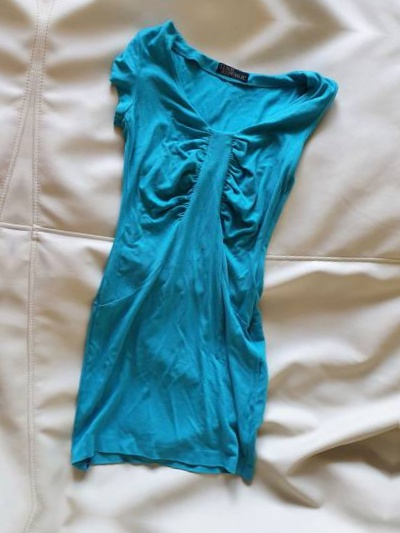Dress: (7, 5, 373, 512), (0, 0, 21, 465), (73, 0, 400, 20)
